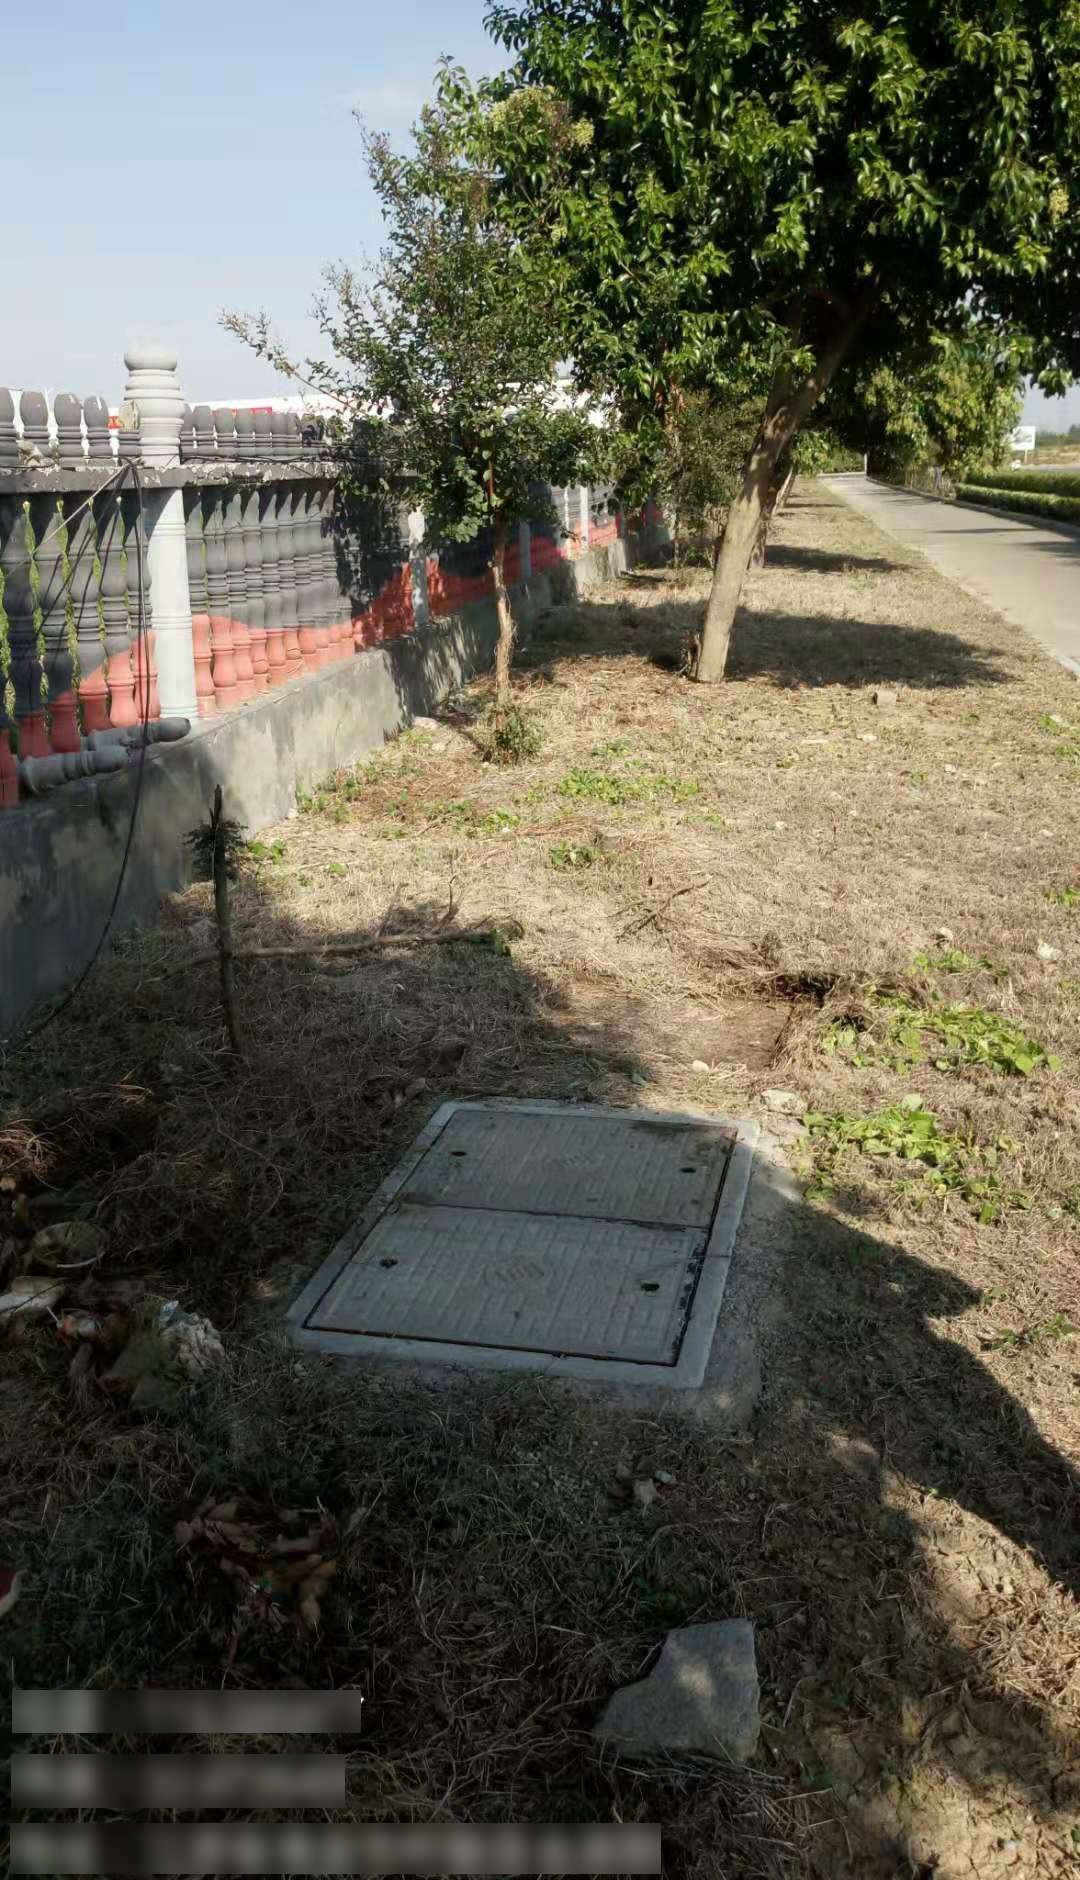good: (282, 1100, 762, 1387)
